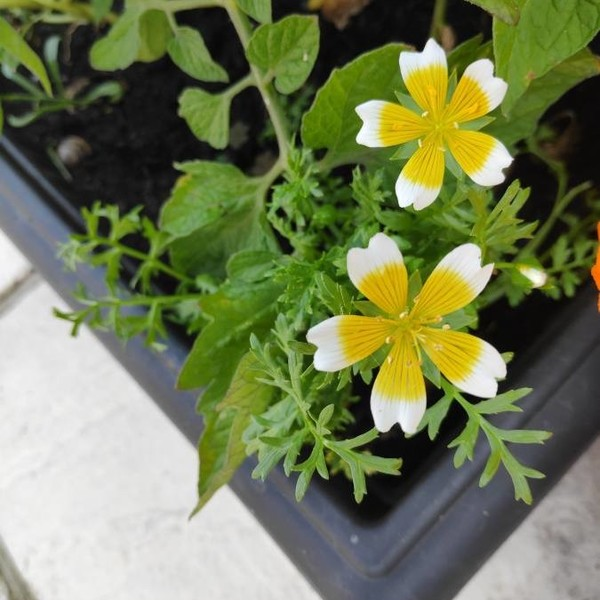obstacle: (94, 14, 583, 526)
